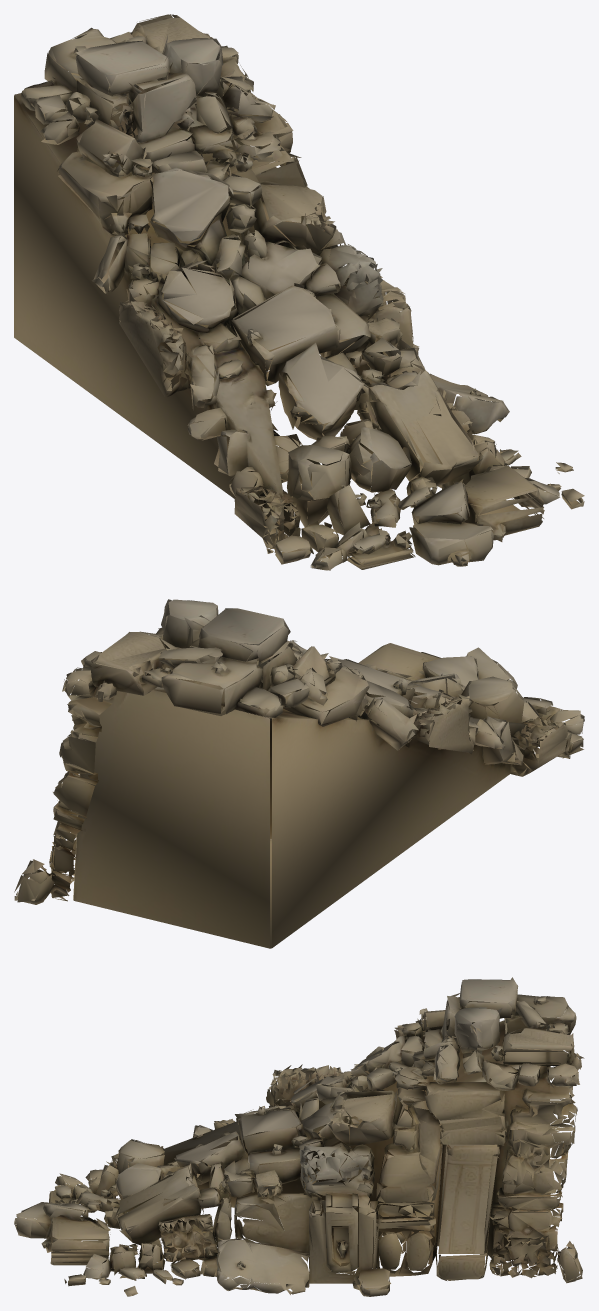
File: fin_rockfall_rubble_slope_LOD1.glb
The picture shows the model from 3 angles, top to bottom: view 1: azimuth 30°, elevation 25°; view 2: azimuth 150°, elevation 25°; view 3: azimuth 270°, elevation 25°; orthographic projection. The views are drawn at different scales.
Parts seen in each view (by area): view 1: tripo_node_8024f827-60a6-4286-b321-2efb5a994bcf; view 2: tripo_node_8024f827-60a6-4286-b321-2efb5a994bcf; view 3: tripo_node_8024f827-60a6-4286-b321-2efb5a994bcf.
Boxes of the visible parts, x1,y1,x2,y2 form: tripo_node_8024f827-60a6-4286-b321-2efb5a994bcf: [14, 14, 584, 570]; tripo_node_8024f827-60a6-4286-b321-2efb5a994bcf: [14, 599, 584, 948]; tripo_node_8024f827-60a6-4286-b321-2efb5a994bcf: [14, 977, 584, 1296].
Size of the model in its own units: 0.5008 by 0.4493 by 1.01.
Materials: 1 (1 with a texture image).
